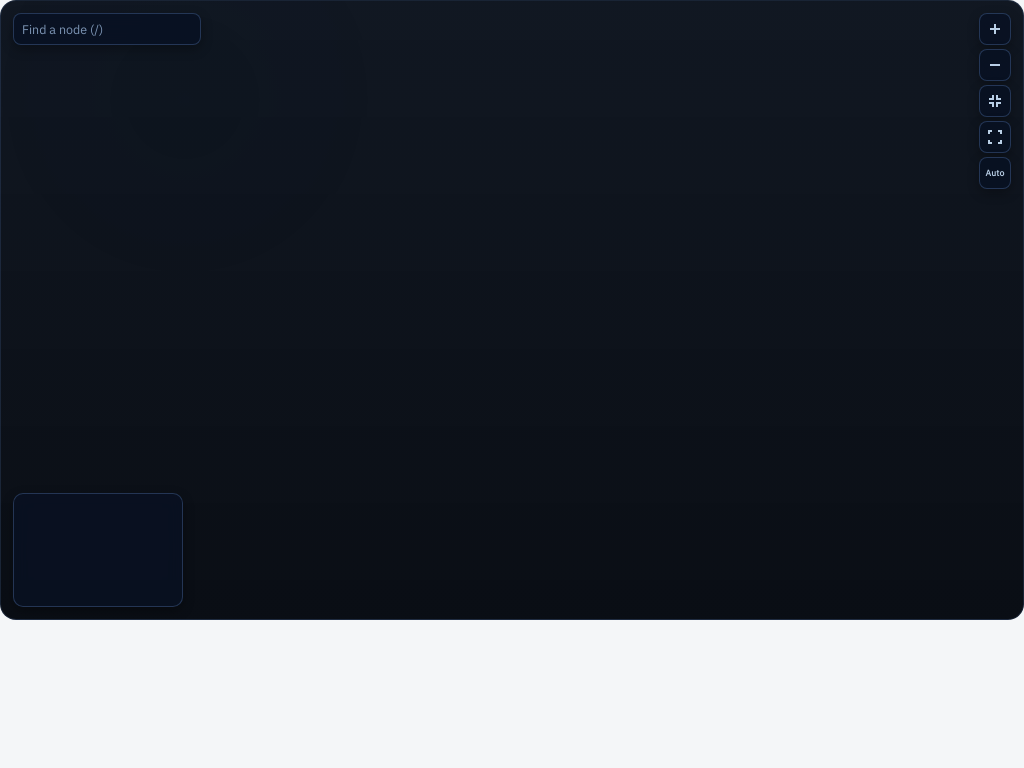
Scenario: GraphCanvas multi-node context menu › shows the multi-node context menu when right-clicking directly on one of the selected nodes
Step 1. Right-click the element with class "graph-surface" → (512, 310), box [0,0,1023,620]
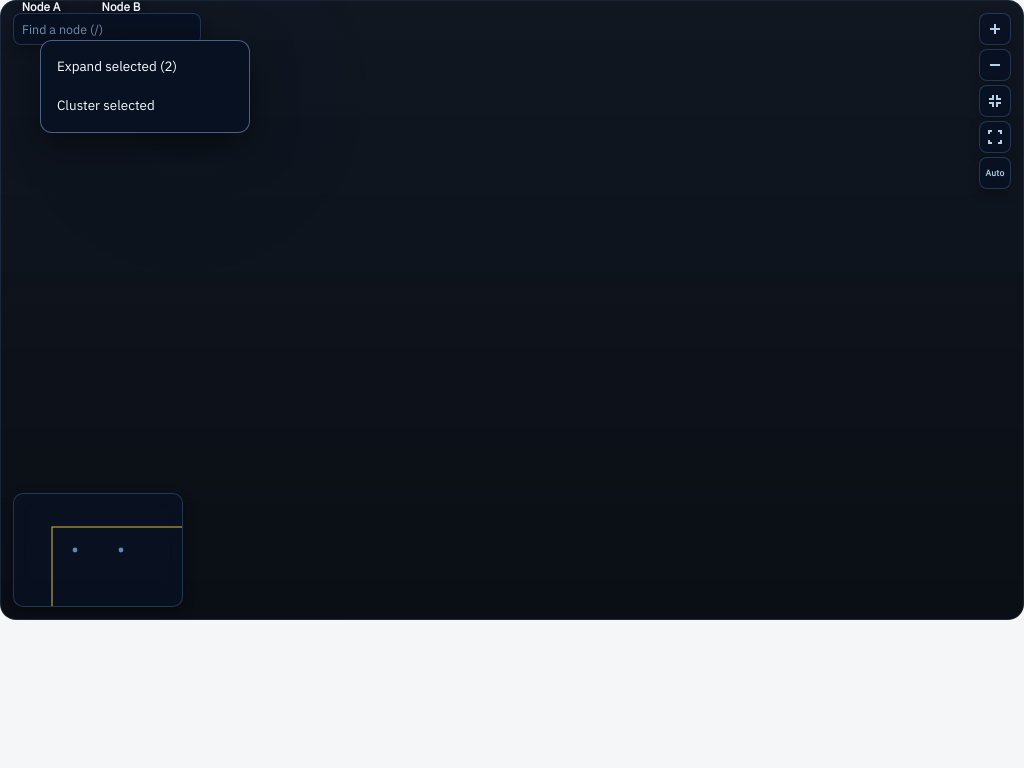
Expected: the menu item "Expand selected (2)" is shown, [41,47,249,86]
